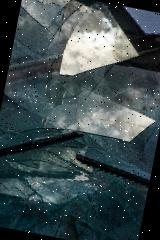glass: (4, 153, 150, 240)
